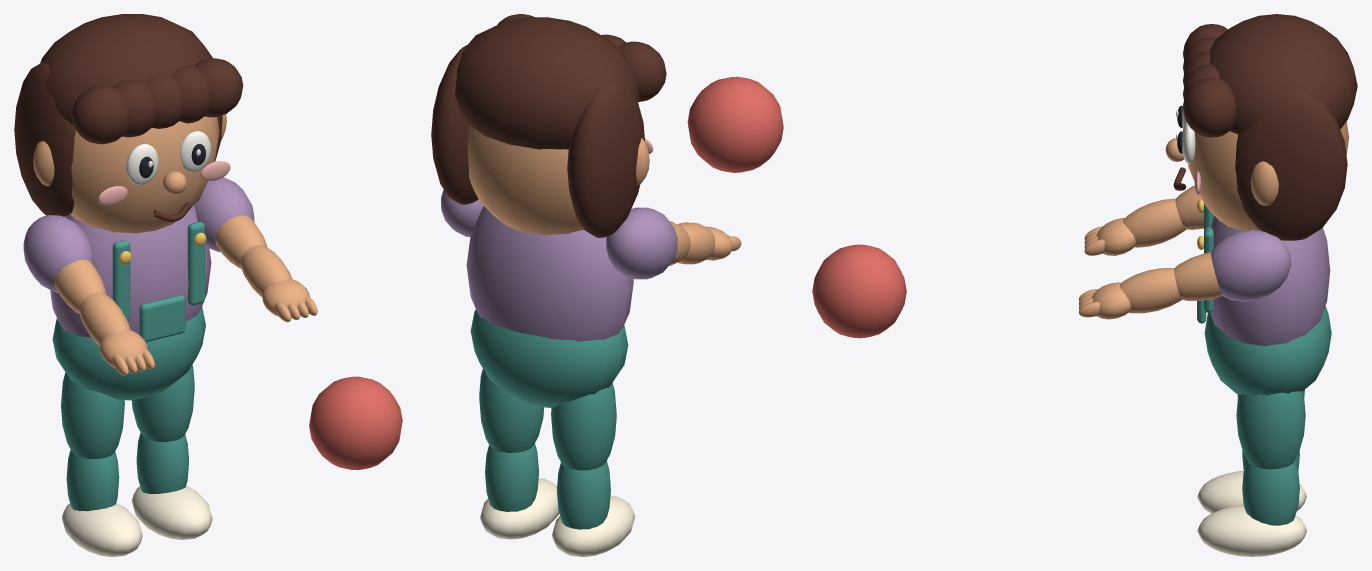
File: mommy-catch.glb
3 views of the same model, side by side, from view 1: azimuth 30°, elevation 25°; view 2: azimuth 150°, elevation 25°; view 3: azimuth 270°, elevation 25° (orthographic). The views are drawn at different scales.
Visible parts, largest first — view 1: clay head, hair cap, soft shirt, soft ball, overalls, bob hair, trouser leg, shirt sleeve, little shoe, little shoe.001, trouser leg.001, fringe (+19 smaller); view 2: hair cap, soft shirt, overalls, bob hair, clay head, soft ball, trouser leg, bob hair.001, shirt sleeve, trouser leg.001, lower leg, lower leg.001 (+8 smaller); view 3: bob hair.001, hair cap, soft shirt, soft ball, overalls, trouser leg.001, shirt sleeve.001, clay head, little shoe.001, lower leg.001, fringe.004, forearm.001 (+7 smaller).
Boxes of the visible parts, x1,y1,x2,y2 form: clay head: (70,116,219,233); hair cap: (40,14,212,125); soft shirt: (50,205,211,337); soft ball: (309,376,402,470); overalls: (52,306,205,400); bob hair: (14,61,76,216); trouser leg: (61,372,124,458); shirt sleeve: (23,215,93,292); little shoe: (62,503,142,556); little shoe.001: (131,486,212,539); trouser leg.001: (131,364,194,441); fringe: (71,85,128,144); hair cap: (455,17,639,149); soft shirt: (466,206,633,341); overalls: (470,310,628,407); bob hair: (567,81,644,237); clay head: (467,125,583,235); soft ball: (687,76,783,172); trouser leg: (551,383,616,470); bob hair.001: (431,45,478,204); shirt sleeve: (606,207,677,279); trouser leg.001: (479,368,544,452); lower leg: (557,461,610,529); lower leg.001: (485,443,538,511); bob hair.001: (1235,91,1347,240); hair cap: (1209,14,1357,134); soft shirt: (1210,216,1330,346); soft ball: (812,244,906,338); overalls: (1204,306,1331,395); trouser leg.001: (1236,391,1305,469); shirt sleeve.001: (1211,229,1291,301); clay head: (1188,121,1348,230); little shoe.001: (1197,505,1306,556); lower leg.001: (1242,460,1299,525); fringe.004: (1183,77,1236,137); forearm.001: (1120,268,1181,313).
Bounding box in the file's own units: 0.957 × 2.14 × 2.08.
